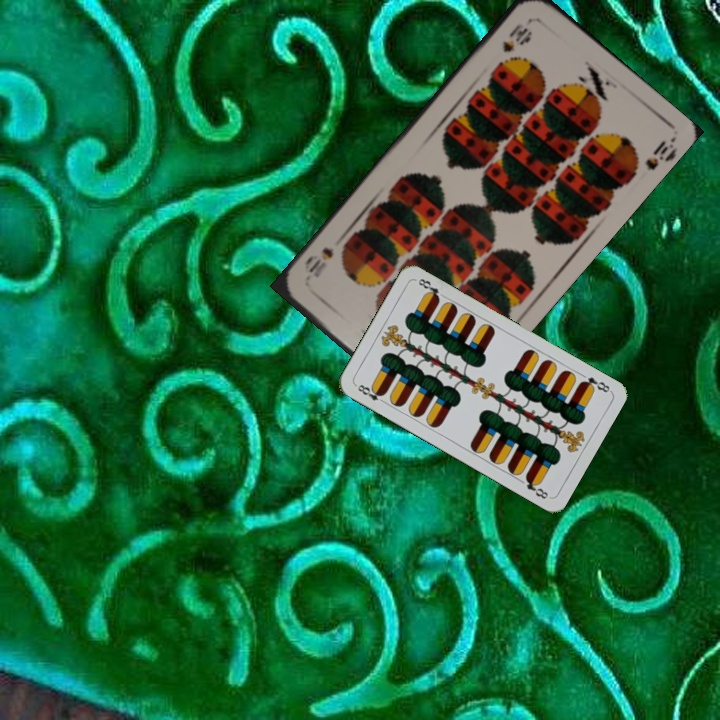E8: (352, 380, 389, 406), (576, 373, 612, 395)
S10: (498, 15, 534, 55)
